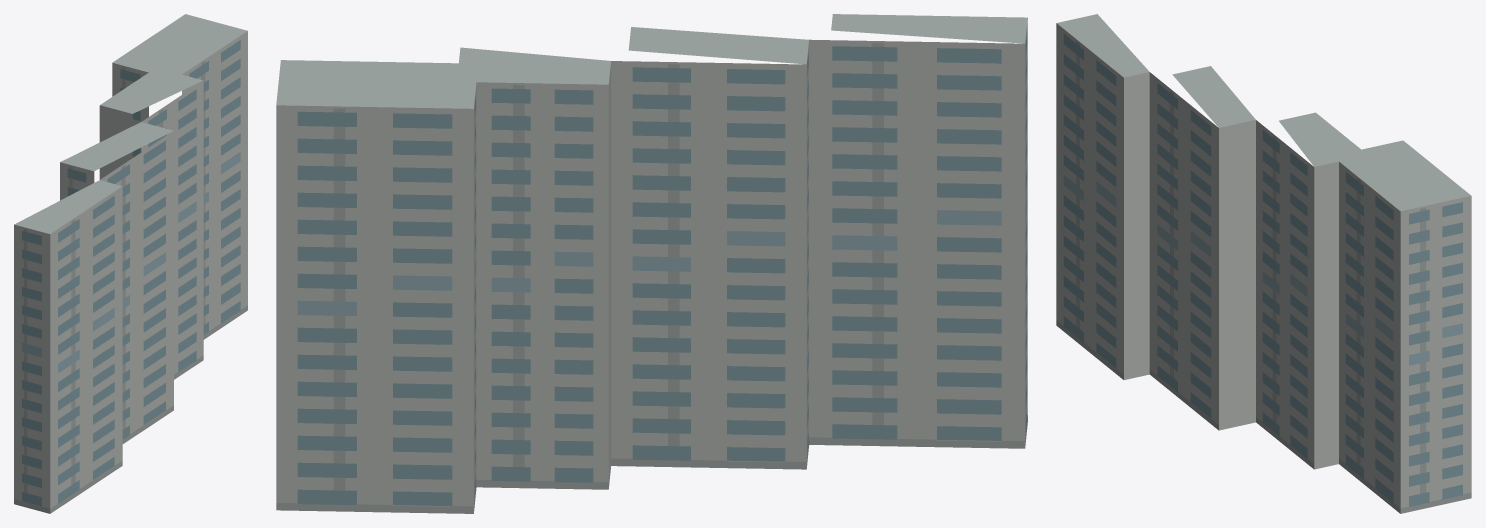
Rendered from residential-d45eaf02-b27e-4c2f-a175-ab88ac68bf00.glb.
The picture shows the model from 3 angles, left to right: view 1: azimuth 30°, elevation 25°; view 2: azimuth 150°, elevation 25°; view 3: azimuth 270°, elevation 25°; orthographic projection. The views are drawn at different scales.
Visible parts, largest first — view 1: residential-d45eaf02-b27e-4c2f-a175-ab88ac68bf00.tmp; view 2: residential-d45eaf02-b27e-4c2f-a175-ab88ac68bf00.tmp; view 3: residential-d45eaf02-b27e-4c2f-a175-ab88ac68bf00.tmp.
Boxes of the visible parts, box(x1,y1,x2,y2) form: residential-d45eaf02-b27e-4c2f-a175-ab88ac68bf00.tmp: box(14, 14, 247, 513); residential-d45eaf02-b27e-4c2f-a175-ab88ac68bf00.tmp: box(276, 14, 1027, 513); residential-d45eaf02-b27e-4c2f-a175-ab88ac68bf00.tmp: box(1056, 14, 1471, 513).
Size of the model in its own units: 64 by 45.75 by 56.89.
